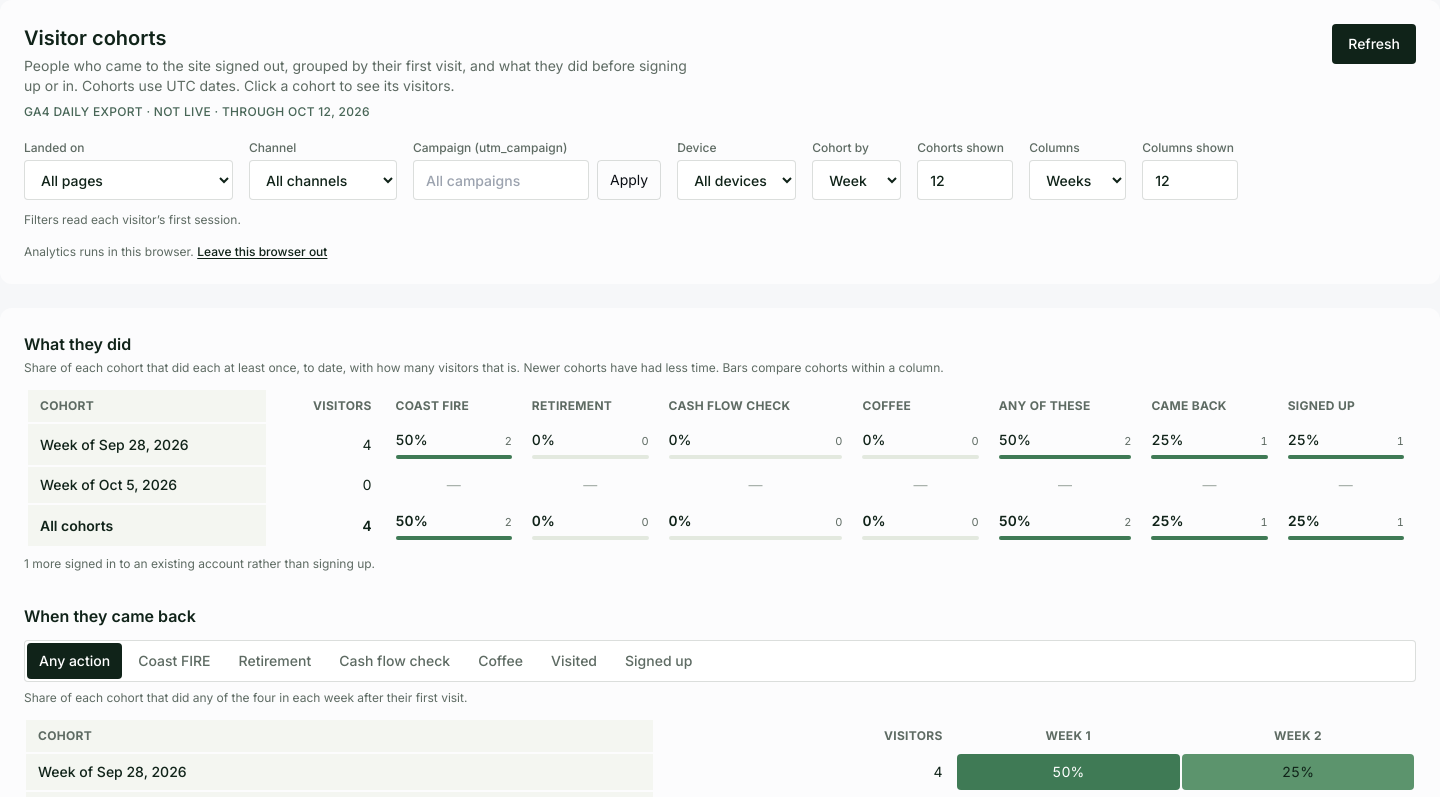
VisitorCohortPanel › switches the period grid between what it counts
Expected: the cells read "4", "50%", "25%", in this order, [655,754,955,790]; [957,754,1180,790]; [1182,754,1414,790]
What coordinates should you click on to do the following:
click the button "Visited"
I would click on:
 (574, 661)
Its box is [539,643,609,679].
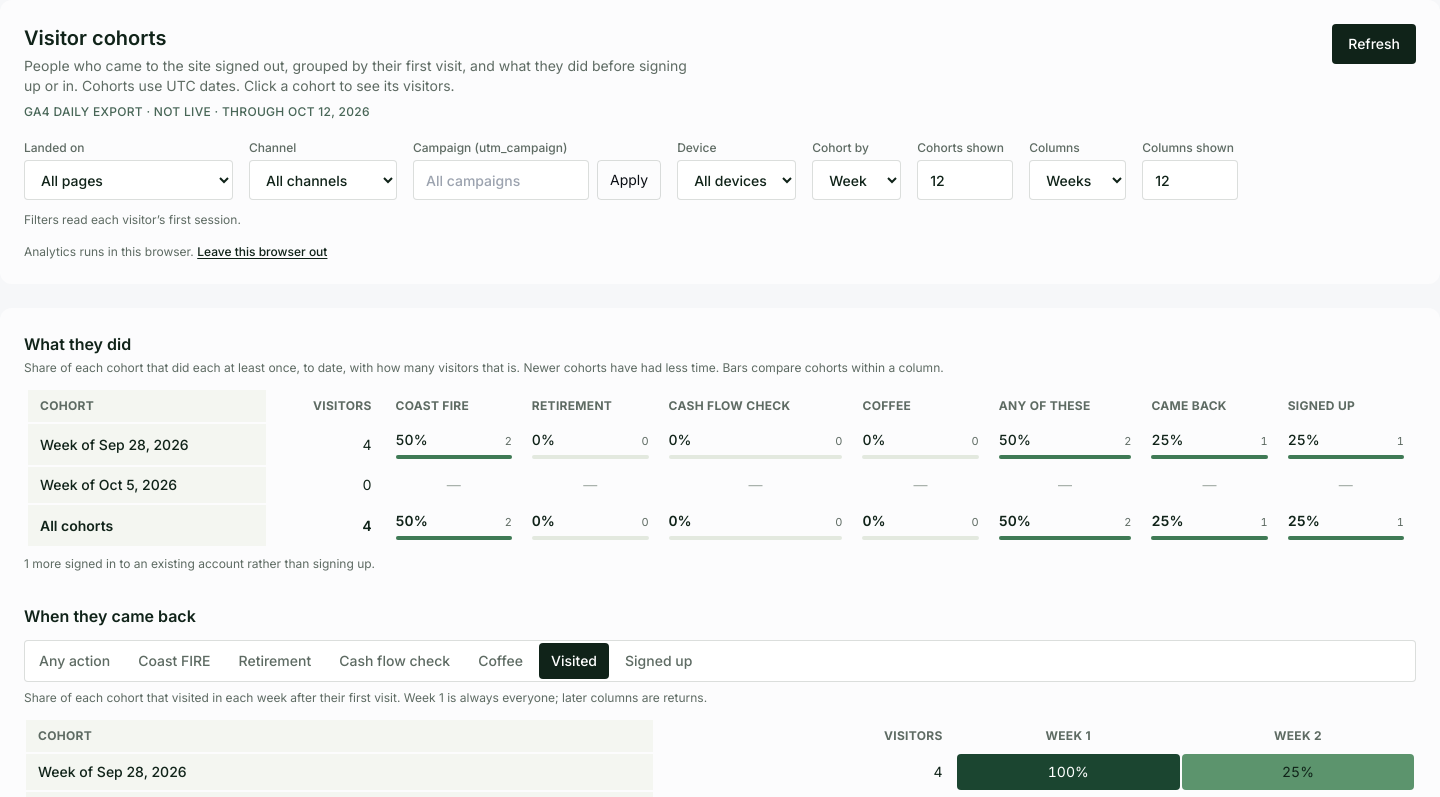
Expected: the cells read "4", "100%", "25%", in this order, [655,754,955,790]; [957,754,1180,790]; [1182,754,1414,790]
Expected: the text "Week 1 is always everyone" is shown, [400,690,707,705]
What coordinates should you click on to do the following:
click the button "Signed up"
I would click on:
 (659, 661)
Its box is [613,643,704,679].
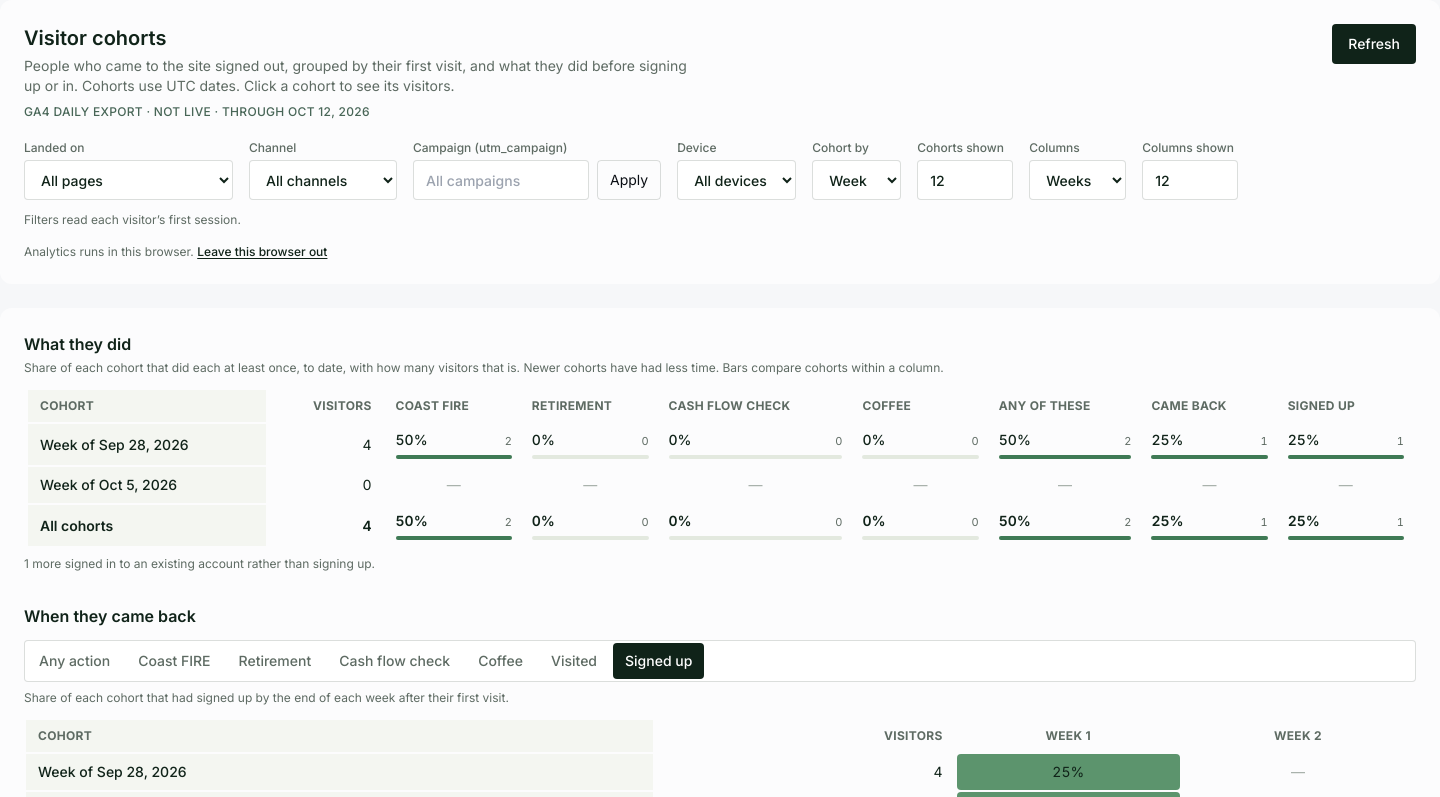
Expected: the text "had signed up by the end of each week after their first visit" is shown, [24,690,509,705]
